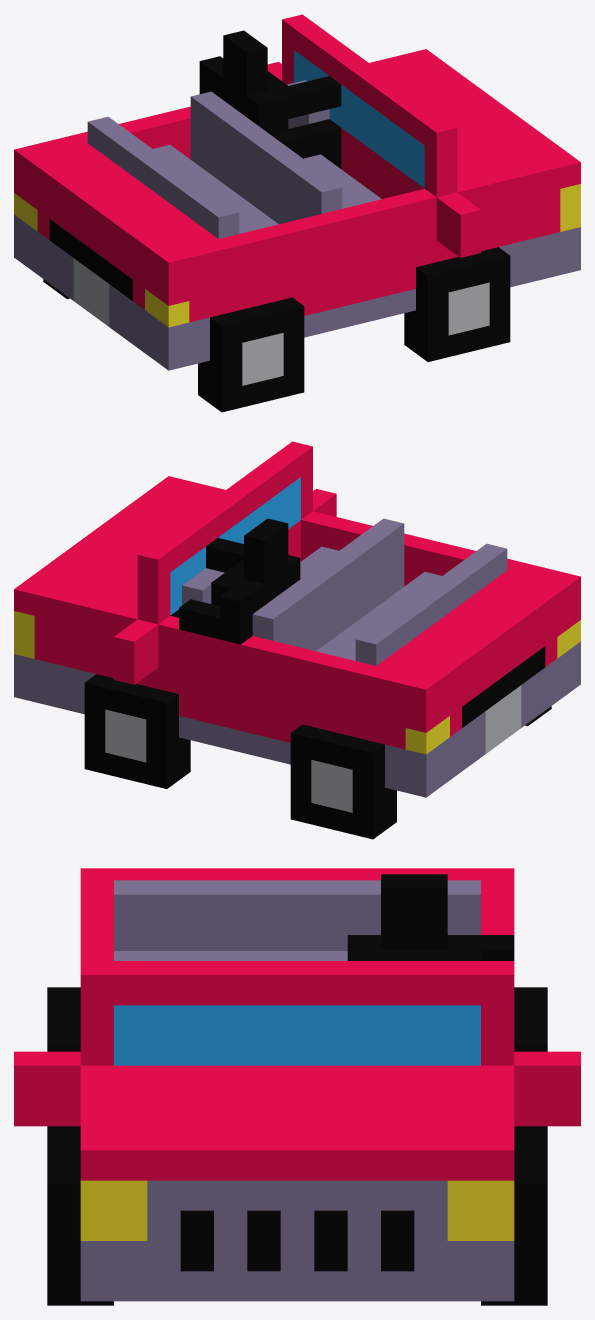
File: convertible_a.obj
3 renders of one model, top to bottom at view 1: azimuth 30°, elevation 25°; view 2: azimuth 150°, elevation 25°; view 3: azimuth 270°, elevation 25°, orthographic. The views are drawn at different scales.
Bounding box in the file's own units: 2 × 1.1 × 1.7.
Materials: 1 (1 with a texture image).
